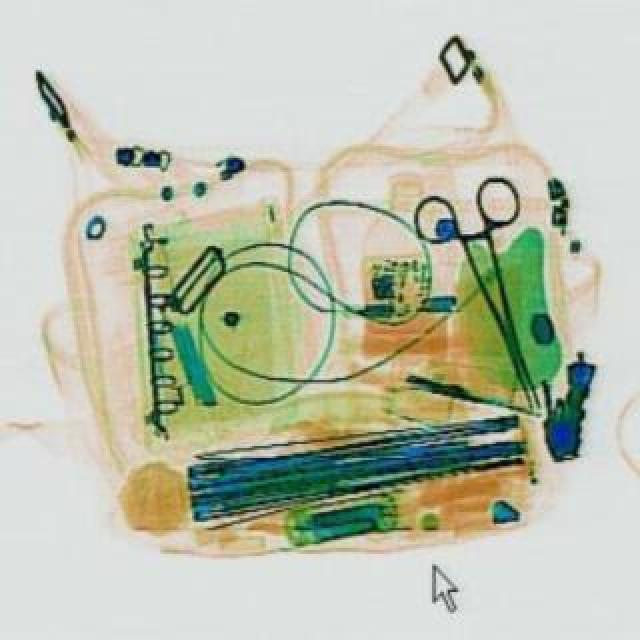pliers: (402, 168, 592, 424)
